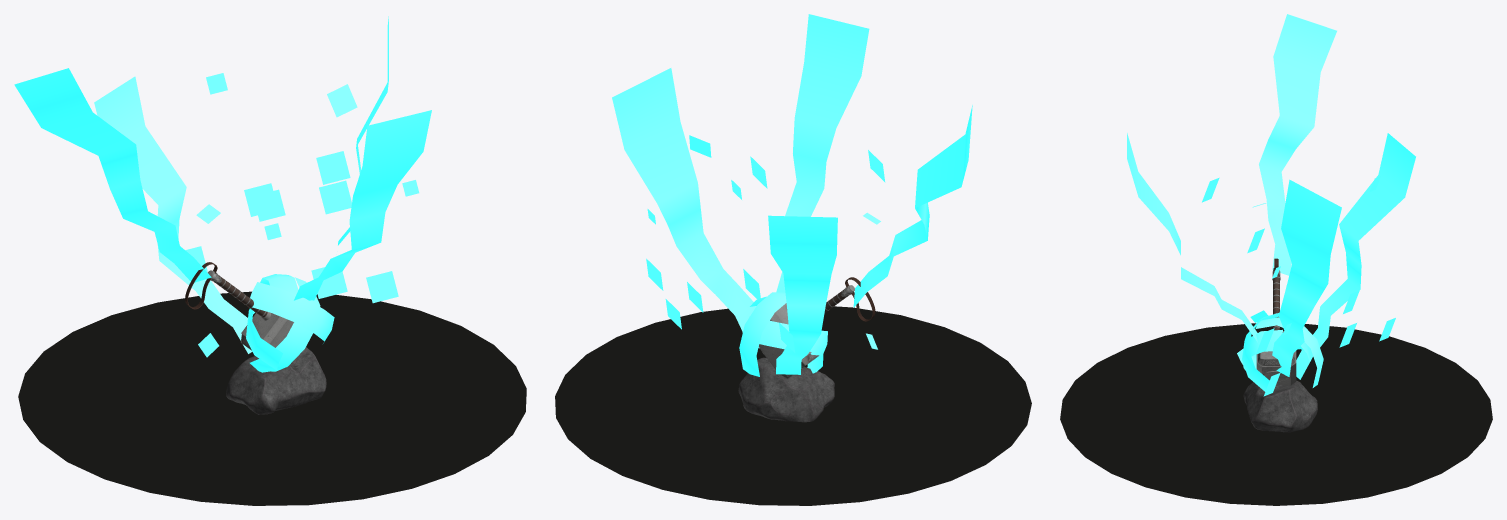
Rendered from avengers_-_thor_hammer.glb.
3 views of the same model, side by side, from view 1: azimuth 30°, elevation 25°; view 2: azimuth 150°, elevation 25°; view 3: azimuth 270°, elevation 25° (orthographic). The views are drawn at different scales.
Parts seen in each view (by area): view 1: g (×16); view 2: g (×9); view 3: g (×9).
Part boxes in pixels (x1,y1,x2,y2): g (×16): (14,16,526,505); g (×9): (555,14,1031,505); g (×9): (1060,14,1492,505).
Size of the model in its own units: 10.24 by 8.36 by 10.18.
2 materials, 2 textured.
